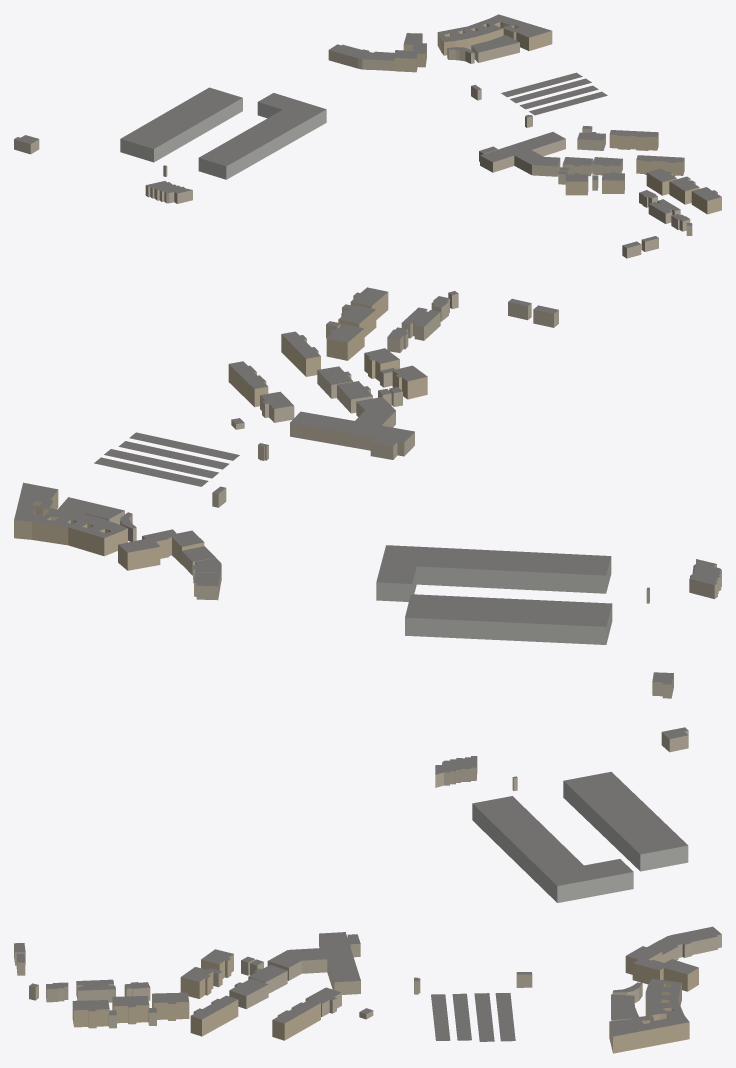
Rendered from buildings.glb.
3 renders of one model, top to bottom at view 1: azimuth 30°, elevation 25°; view 2: azimuth 150°, elevation 25°; view 3: azimuth 270°, elevation 25°, orthographic. The views are drawn at different scales.
Parts seen in each view (by area): view 1: T_W1_N5_buildings; view 2: T_W1_N5_buildings; view 3: T_W1_N5_buildings.
Boxes of the visible parts, <box> form: T_W1_N5_buildings: <box>14,14,721,258</box>; T_W1_N5_buildings: <box>14,287,721,698</box>; T_W1_N5_buildings: <box>14,727,721,1053</box>.
Bounding box in the file's own units: 515 × 15.03 × 488.
